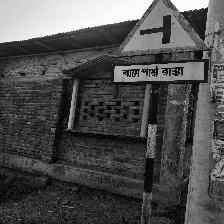Side-road-left: (112, 0, 210, 86)
